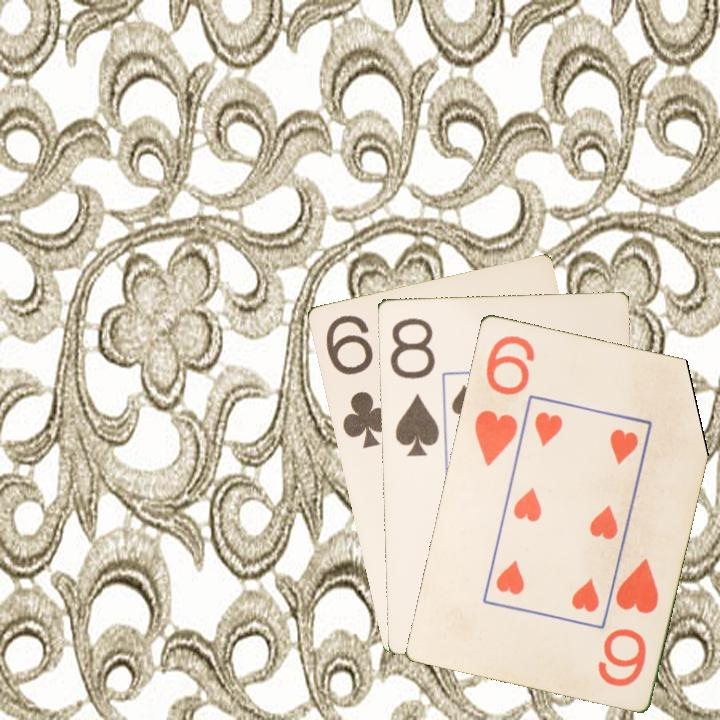6c: (321, 311, 394, 451)
6h: (470, 331, 537, 469), (594, 554, 662, 689)
8s: (386, 314, 442, 459)
